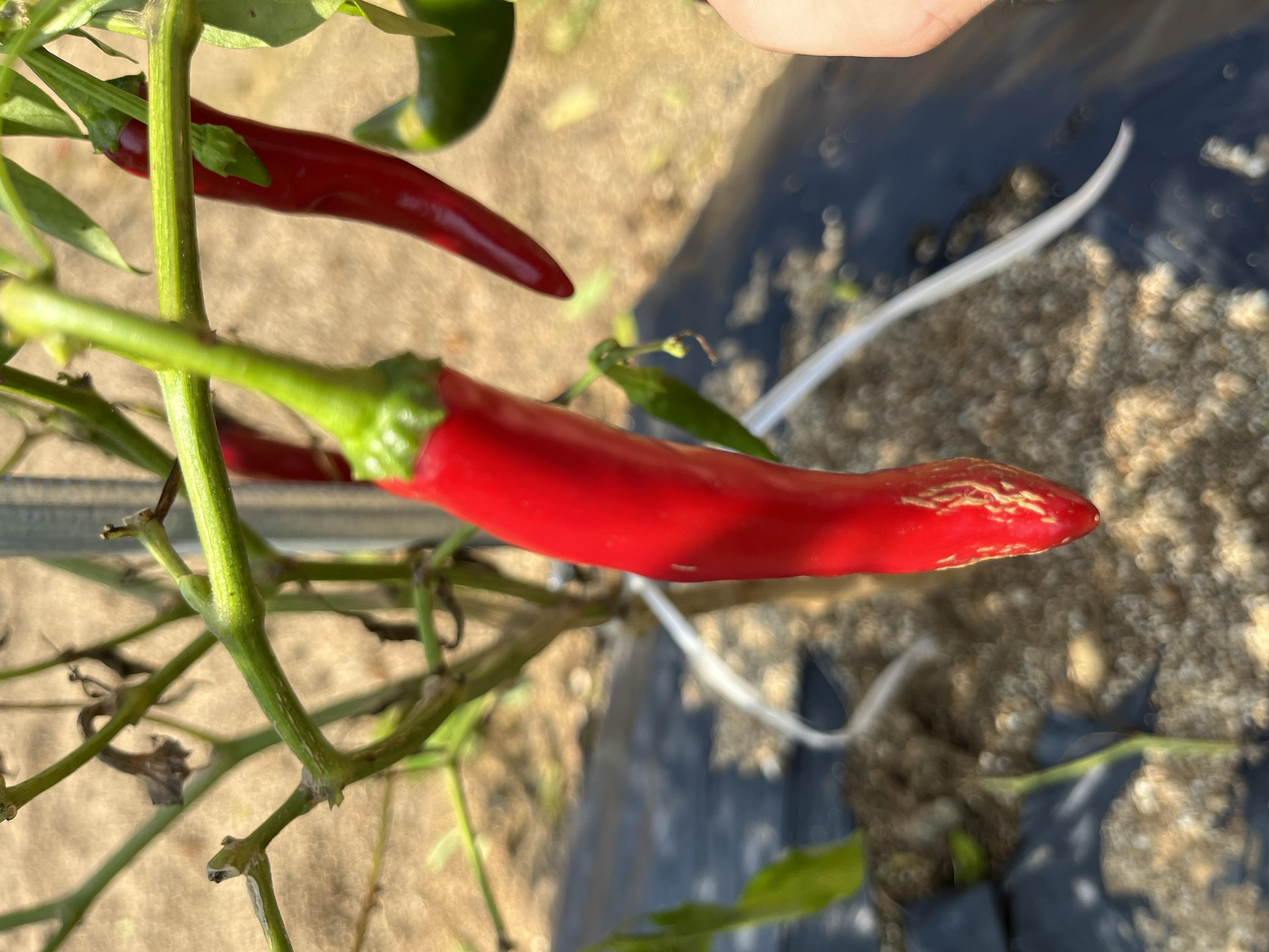Buah Cabai Sehat: (457, 216, 816, 832), (852, 60, 1162, 448)
